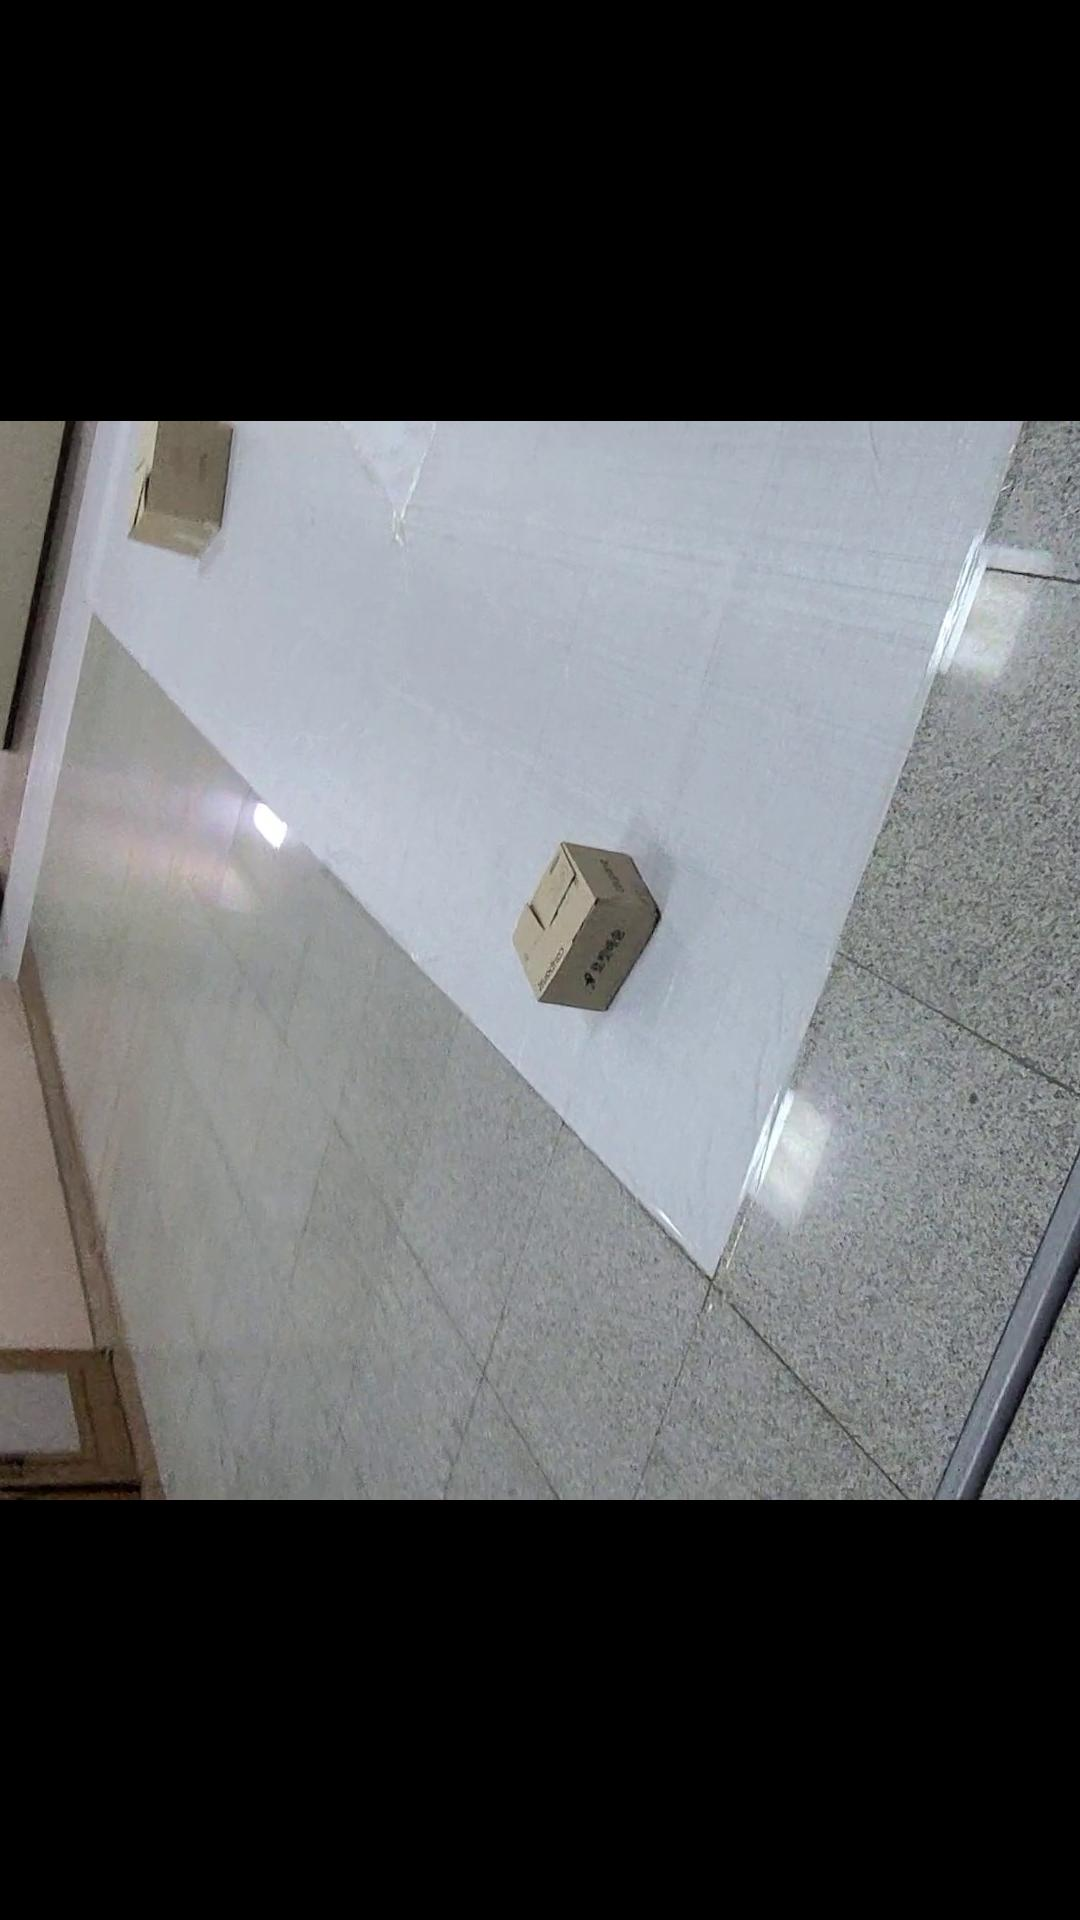Box: (483, 808, 680, 1044), (75, 419, 287, 584)
